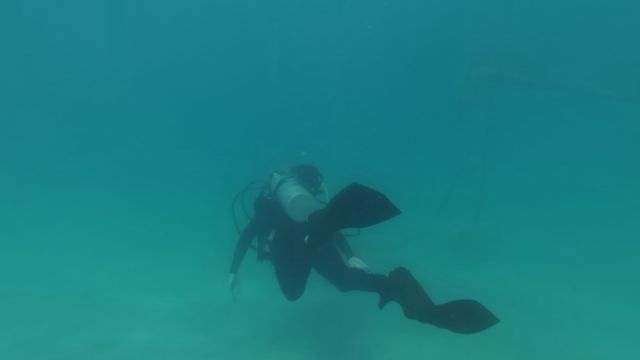Diver: (223, 153, 510, 348)
